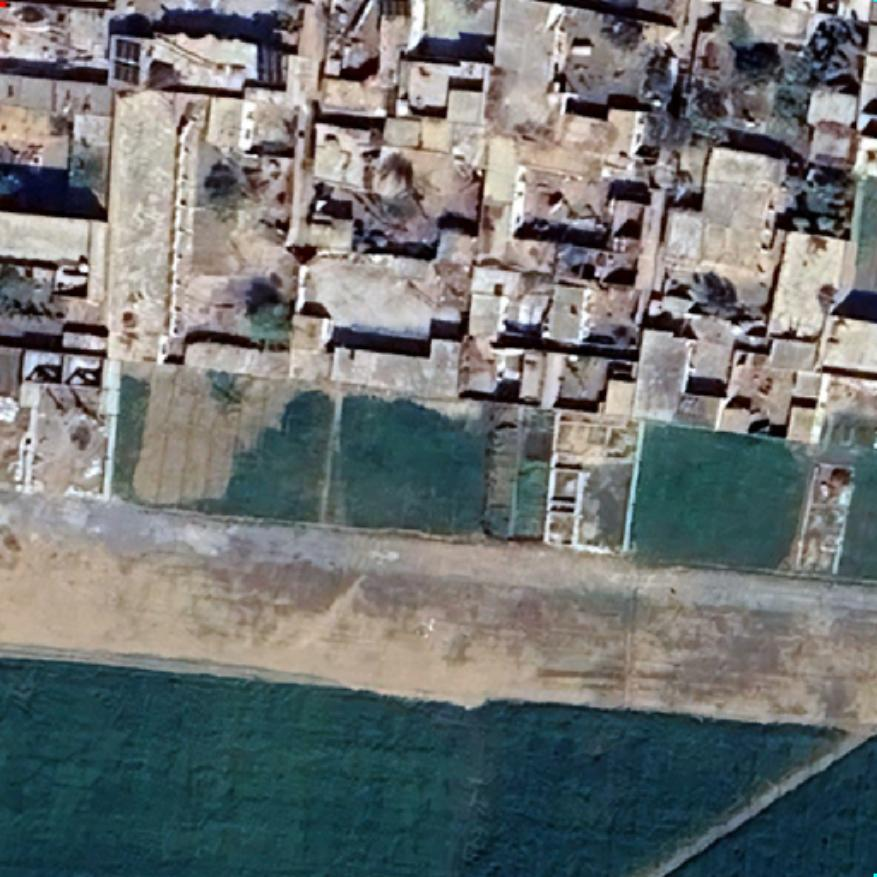Solarpanel: (107, 32, 145, 88), (252, 39, 288, 91), (376, 0, 414, 22)
